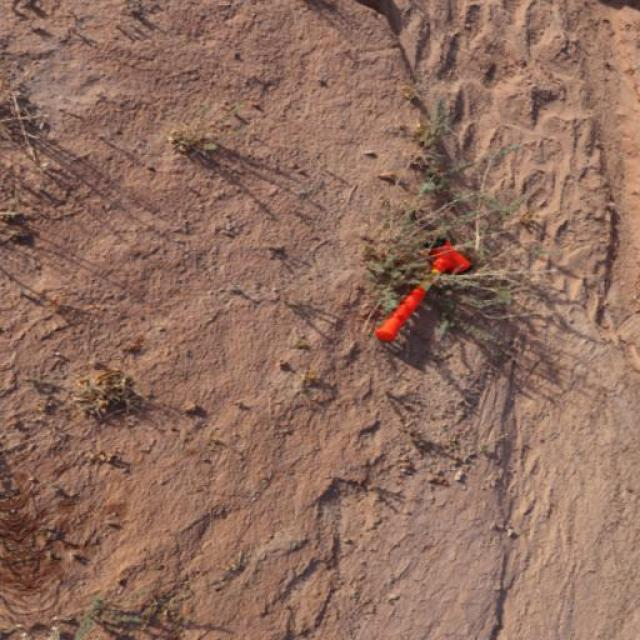mallet: (372, 235, 472, 343)
